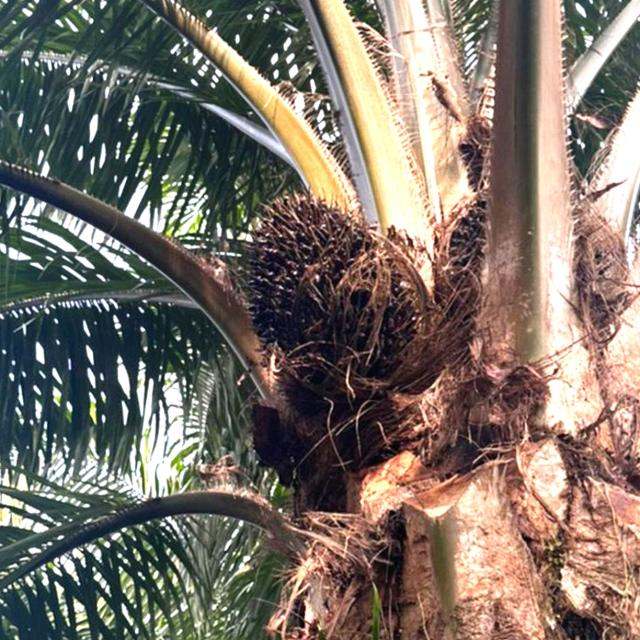almost: (239, 188, 424, 392)
